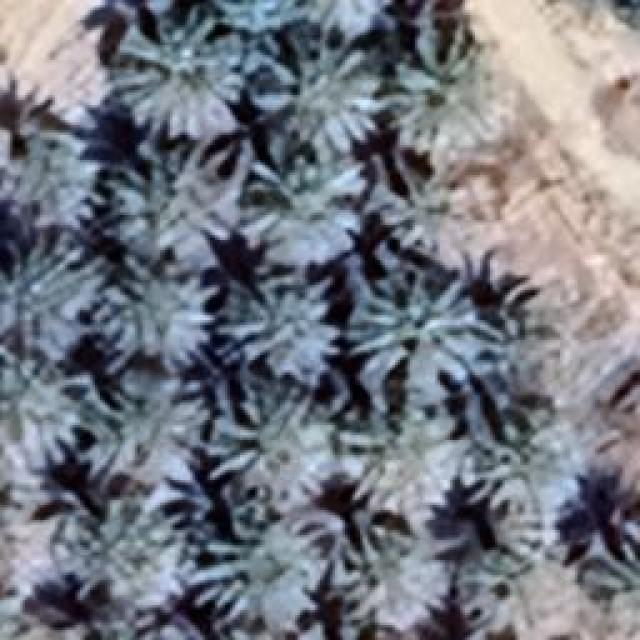PalmTree: (345, 270, 485, 408), (110, 10, 248, 140), (260, 27, 388, 155), (460, 402, 588, 530), (188, 498, 322, 620), (240, 148, 372, 268), (112, 140, 245, 258), (207, 378, 335, 500), (80, 372, 212, 490), (338, 402, 470, 516), (65, 490, 190, 610), (455, 528, 583, 638), (0, 230, 105, 360), (215, 270, 335, 382), (380, 25, 482, 150), (334, 522, 448, 628), (0, 137, 102, 234), (110, 271, 210, 364), (374, 173, 476, 254), (0, 472, 62, 589), (0, 366, 68, 472), (585, 494, 640, 612), (252, 0, 381, 31), (165, 0, 262, 32), (67, 616, 189, 640), (0, 589, 49, 640)
